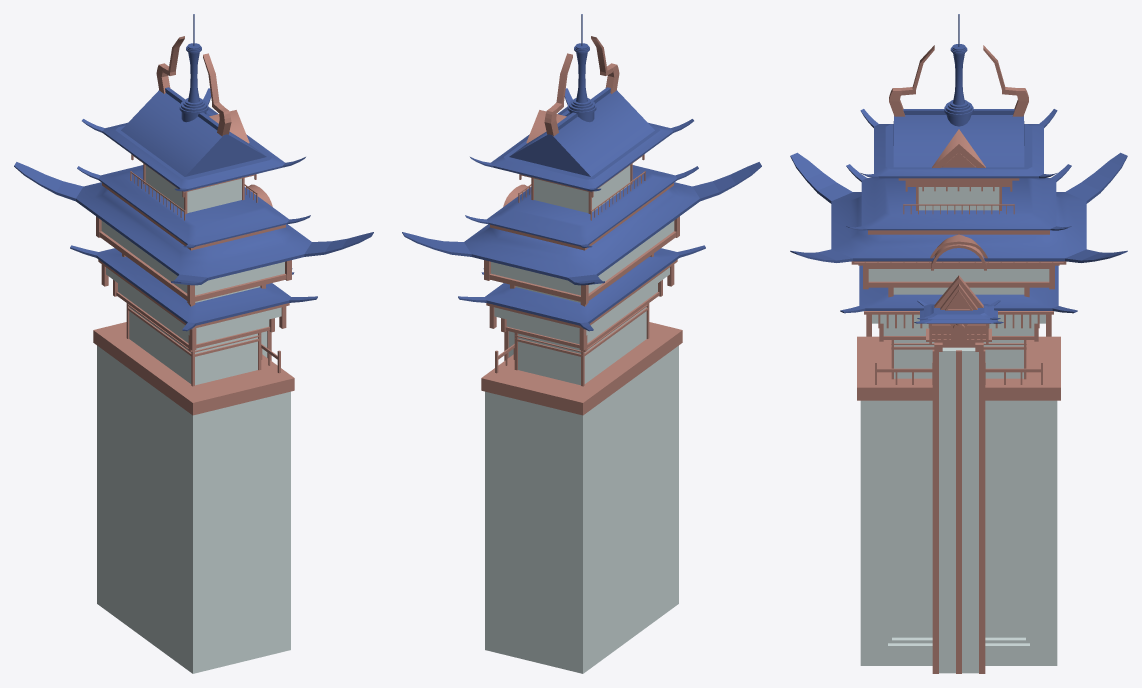
File: visitinghouse1.FBX
The picture shows the model from 3 angles, left to right: view 1: azimuth 30°, elevation 25°; view 2: azimuth 150°, elevation 25°; view 3: azimuth 270°, elevation 25°; orthographic projection. The views are drawn at different scales.
Parts seen in each view (by area): view 1: Box001, Box077, Box022, Box019, Group003, Box013, Box017, Group001, Box078, Group004, Box015, Shape007 (+2 smaller); view 2: Box001, Box077, Box022, Box019, Group003, Box013, Box017, Group001, Box078, Group004, Box015, Shape007 (+2 smaller); view 3: Box001, Box077, Box021, Box019, Box022, Group003, Group004, Group001, Box078, Box013, Box017, Shape002 (+7 smaller).
Boxes of the visible parts, x1=… form: Box001: x1=97, y1=345, x2=290, y2=673; Box077: x1=14, y1=162, x2=373, y2=285; Box022: x1=93, y1=322, x2=294, y2=415; Box019: x1=77, y1=165, x2=310, y2=247; Group003: x1=121, y1=90, x2=266, y2=176; Box013: x1=118, y1=283, x2=269, y2=385; Box017: x1=70, y1=245, x2=317, y2=331; Group001: x1=101, y1=165, x2=284, y2=302; Box078: x1=82, y1=88, x2=305, y2=191; Group004: x1=102, y1=36, x2=285, y2=250; Box015: x1=106, y1=267, x2=281, y2=336; Shape007: x1=99, y1=231, x2=285, y2=300; Box001: x1=485, y1=345, x2=678, y2=673; Box077: x1=402, y1=162, x2=761, y2=285; Box022: x1=481, y1=322, x2=682, y2=415; Box019: x1=465, y1=165, x2=698, y2=247; Group003: x1=509, y1=90, x2=654, y2=176; Box013: x1=506, y1=283, x2=657, y2=385; Box017: x1=458, y1=245, x2=705, y2=331; Group001: x1=491, y1=165, x2=674, y2=302; Box078: x1=470, y1=88, x2=693, y2=191; Group004: x1=490, y1=36, x2=673, y2=250; Box015: x1=494, y1=267, x2=669, y2=336; Shape007: x1=490, y1=231, x2=676, y2=300; Box001: x1=860, y1=400, x2=1057, y2=665; Box077: x1=790, y1=152, x2=1127, y2=262; Box021: x1=939, y1=347, x2=978, y2=673; Box019: x1=846, y1=164, x2=1071, y2=230; Box022: x1=857, y1=336, x2=1060, y2=400; Group003: x1=893, y1=115, x2=1024, y2=167; Group004: x1=854, y1=45, x2=1063, y2=308; Group001: x1=868, y1=187, x2=1049, y2=294; Box078: x1=860, y1=109, x2=1057, y2=178; Box013: x1=883, y1=323, x2=1034, y2=378; Box017: x1=840, y1=265, x2=1077, y2=313; Shape002: x1=979, y1=349, x2=985, y2=673.
Bounding box in the file's own units: 151 × 438 × 213.
